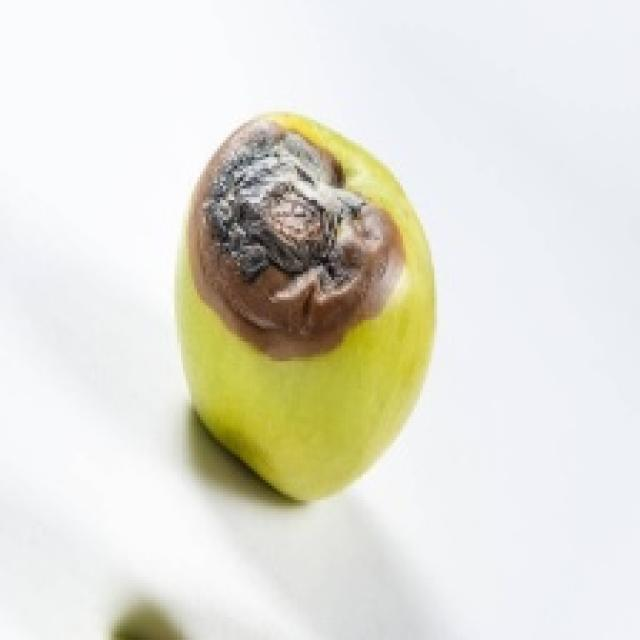rotten_apple: (178, 113, 434, 497)
